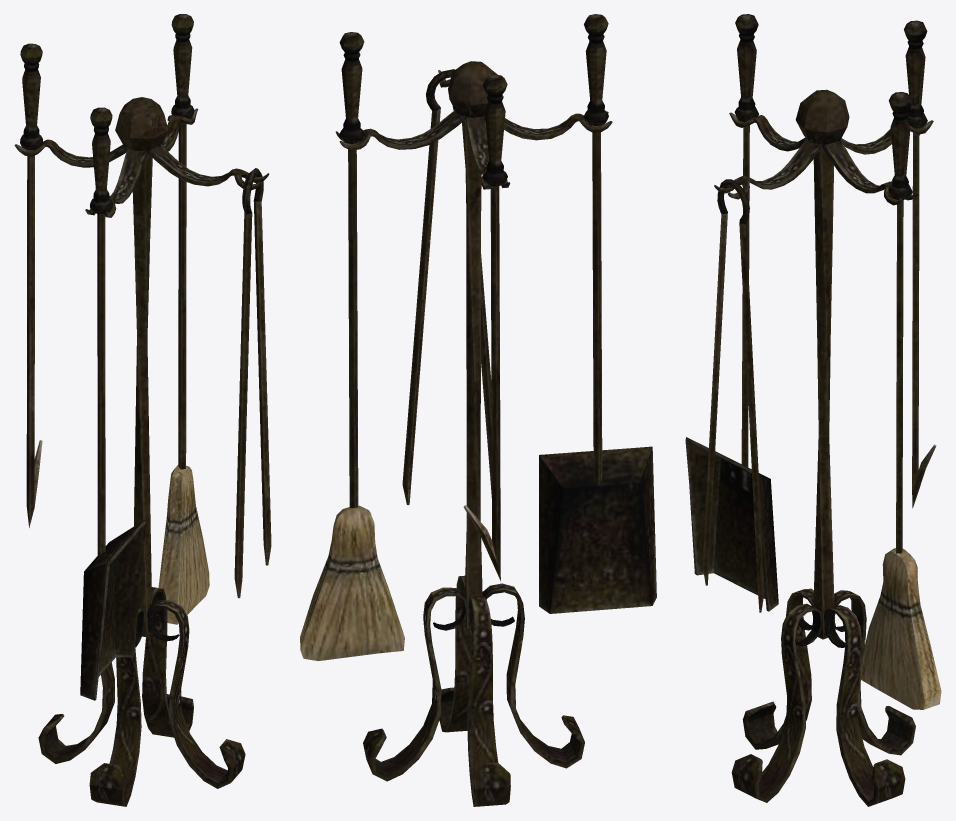
The model's file is broom.glb.
The picture shows the model from 3 angles, left to right: view 1: azimuth 30°, elevation 25°; view 2: azimuth 150°, elevation 25°; view 3: azimuth 270°, elevation 25°; orthographic projection. The views are drawn at different scales.
Parts seen in each view (by area): view 1: broom; view 2: broom; view 3: broom.
Part boxes in pixels (<box>): broom: <box>14,14,271,806</box>; broom: <box>300,14,656,806</box>; broom: <box>685,14,941,806</box>.
Bounding box in the file's own units: 0.5455 × 1.59 × 0.5121.
1 material, 1 textured.
